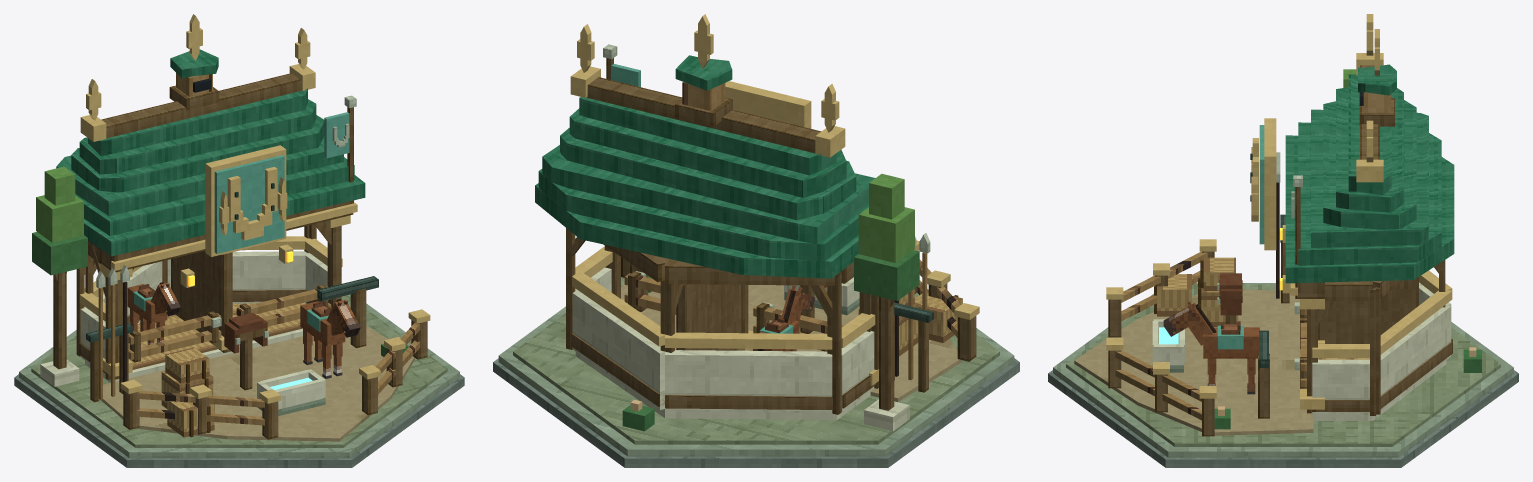
The model's file is elf_war_stable_hex_v1.glb.
3 views of the same model, side by side, from view 1: azimuth 30°, elevation 25°; view 2: azimuth 150°, elevation 25°; view 3: azimuth 270°, elevation 25° (orthographic). The views are drawn at different scales.
Parts seen in each view (by area): view 1: Elf_War_Stable_Hex_V1_Roofs, Elf_War_Stable_Hex_V1_Stable, Elf_War_Stable_Hex_V1_Courtyard, Elf_War_Stable_Hex_V1_Foundation, Elf_War_Stable_Hex_V1_Details, Elf_War_Stable_Hex_V1_Equipment, Elf_War_Stable_Hex_V1_Faction, Elf_War_Stable_Hex_V1_Mounts; view 2: Elf_War_Stable_Hex_V1_Roofs, Elf_War_Stable_Hex_V1_Stable, Elf_War_Stable_Hex_V1_Foundation, Elf_War_Stable_Hex_V1_Details, Elf_War_Stable_Hex_V1_Courtyard, Elf_War_Stable_Hex_V1_Equipment, Elf_War_Stable_Hex_V1_Mounts, Elf_War_Stable_Hex_V1_Faction; view 3: Elf_War_Stable_Hex_V1_Roofs, Elf_War_Stable_Hex_V1_Foundation, Elf_War_Stable_Hex_V1_Stable, Elf_War_Stable_Hex_V1_Courtyard, Elf_War_Stable_Hex_V1_Equipment, Elf_War_Stable_Hex_V1_Details, Elf_War_Stable_Hex_V1_Mounts, Elf_War_Stable_Hex_V1_Faction.
Boxes of the visible parts, box(x1,y1,x2,y2) form: Elf_War_Stable_Hex_V1_Roofs: box(56, 28, 365, 256); Elf_War_Stable_Hex_V1_Stable: box(76, 73, 357, 382); Elf_War_Stable_Hex_V1_Courtyard: box(101, 309, 430, 441); Elf_War_Stable_Hex_V1_Foundation: box(14, 294, 464, 467); Elf_War_Stable_Hex_V1_Details: box(32, 14, 408, 415); Elf_War_Stable_Hex_V1_Equipment: box(86, 265, 378, 437); Elf_War_Stable_Hex_V1_Faction: box(133, 112, 349, 331); Elf_War_Stable_Hex_V1_Mounts: box(127, 282, 360, 378); Elf_War_Stable_Hex_V1_Roofs: box(535, 24, 875, 278); Elf_War_Stable_Hex_V1_Stable: box(566, 81, 878, 419); Elf_War_Stable_Hex_V1_Foundation: box(493, 277, 1019, 467); Elf_War_Stable_Hex_V1_Details: box(603, 14, 919, 431); Elf_War_Stable_Hex_V1_Courtyard: box(621, 240, 979, 401); Elf_War_Stable_Hex_V1_Equipment: box(630, 233, 962, 392); Elf_War_Stable_Hex_V1_Mounts: box(753, 285, 815, 351); Elf_War_Stable_Hex_V1_Faction: box(611, 64, 793, 333); Elf_War_Stable_Hex_V1_Roofs: box(1285, 14, 1454, 283); Elf_War_Stable_Hex_V1_Foundation: box(1048, 283, 1518, 467); Elf_War_Stable_Hex_V1_Stable: box(1264, 92, 1452, 420); Elf_War_Stable_Hex_V1_Courtyard: box(1074, 239, 1313, 436); Elf_War_Stable_Hex_V1_Equipment: box(1154, 152, 1289, 418); Elf_War_Stable_Hex_V1_Details: box(1152, 29, 1481, 429); Elf_War_Stable_Hex_V1_Mounts: box(1163, 301, 1259, 394); Elf_War_Stable_Hex_V1_Faction: box(1217, 125, 1264, 349).
Bounding box in the file's own units: 1.59 × 1.52 × 1.84.
Materials: 1 (1 with a texture image).
